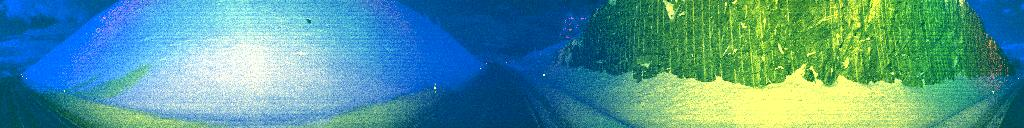pole: (991, 82, 996, 104), (433, 80, 438, 98)
